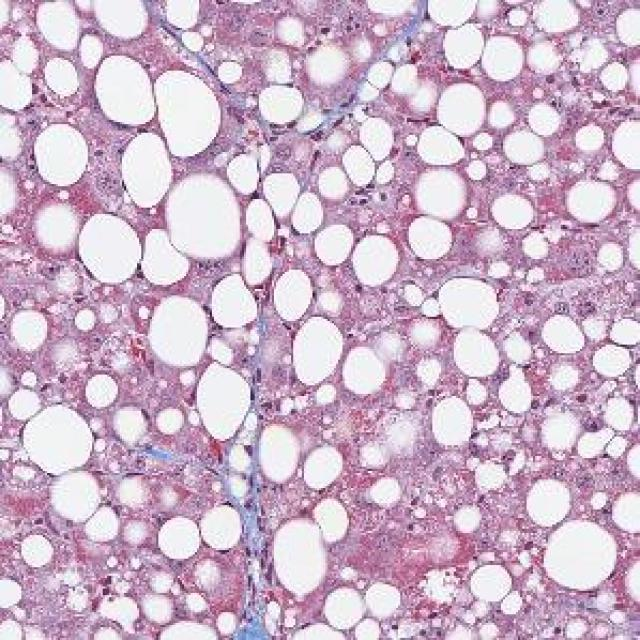fibrosis: (234, 454, 282, 610)
